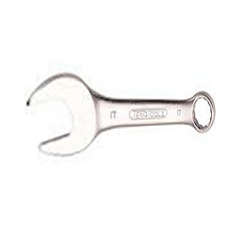Wrench: (22, 70, 219, 161)
